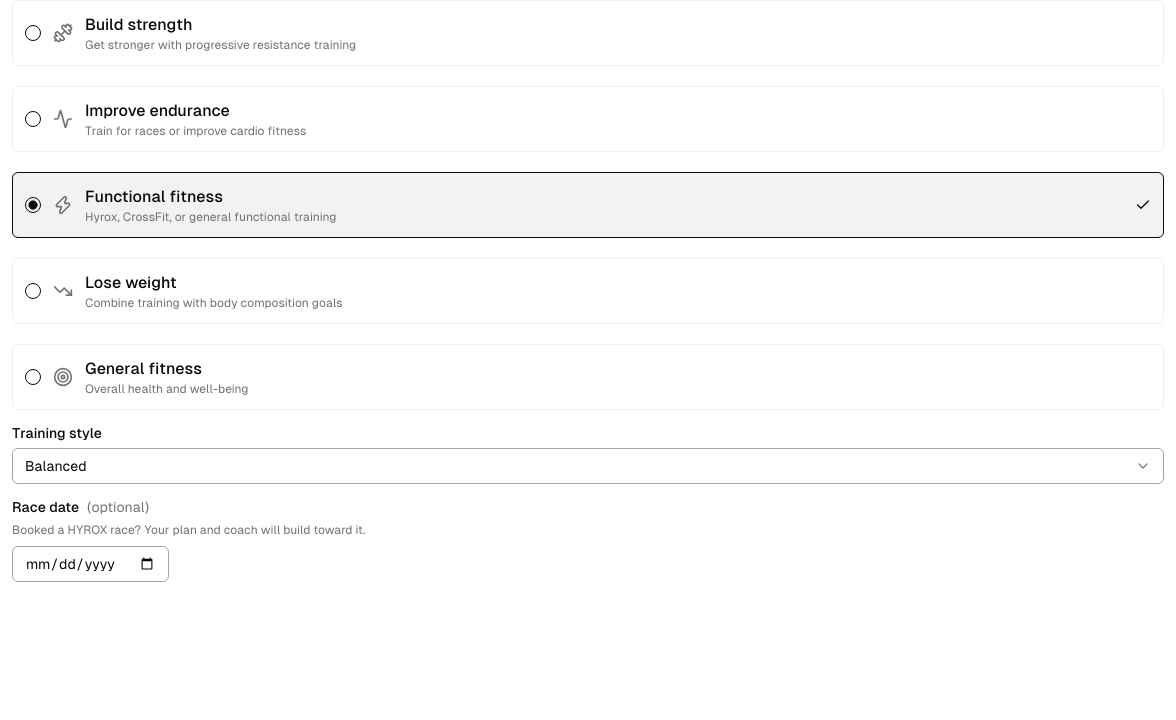
Scenario: GoalStep race date › measures against today when no earliest date is given
Type "2026-10-03" into the date field labelled "Race date (optional)" at (90, 564), box [12,546,169,582]
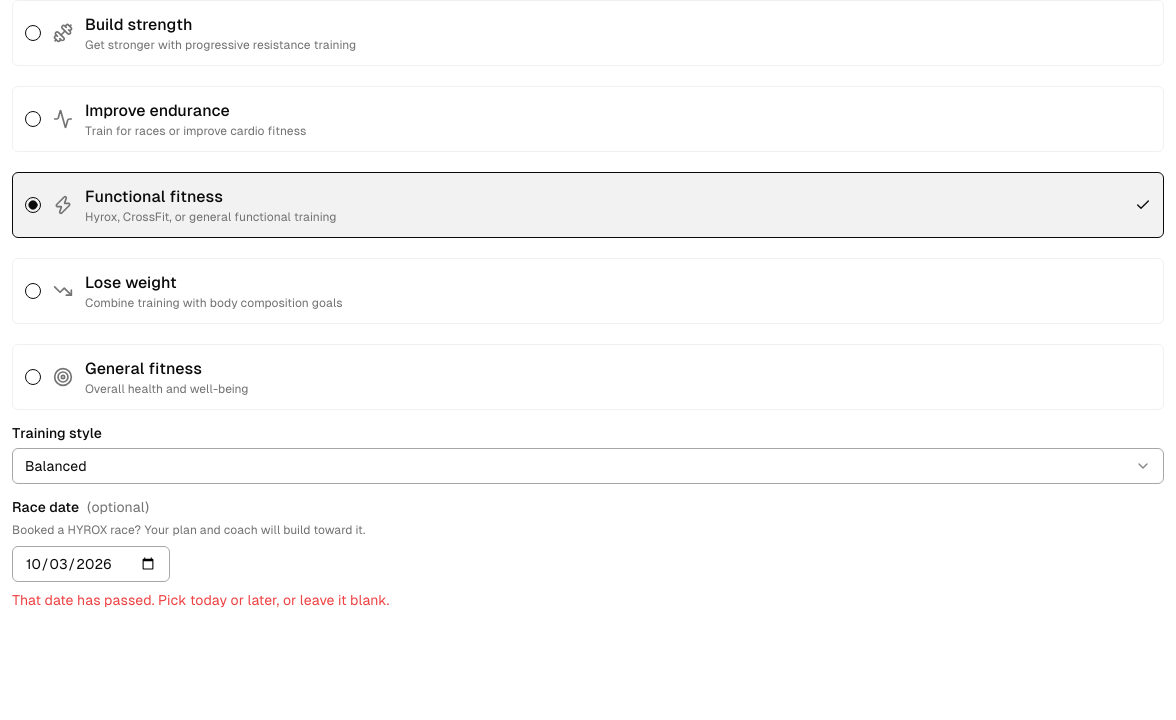
Now the message shows "That date has passed", box [12,592,389,608]
